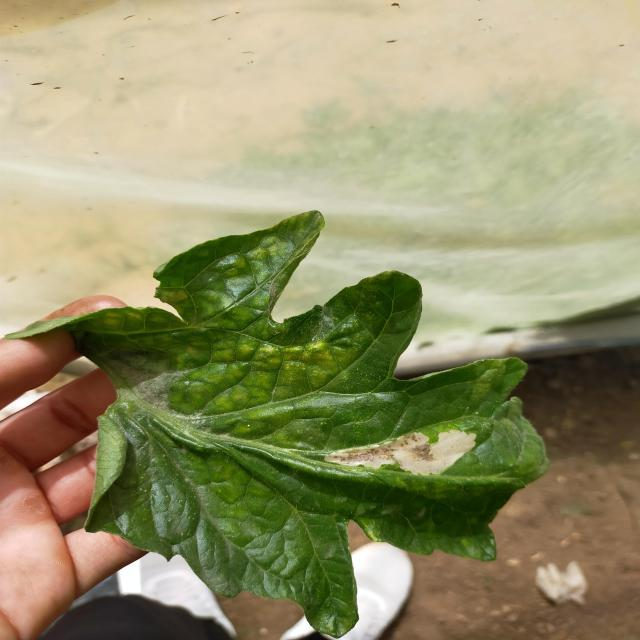Tuta absoluta: (323, 427, 479, 484)
